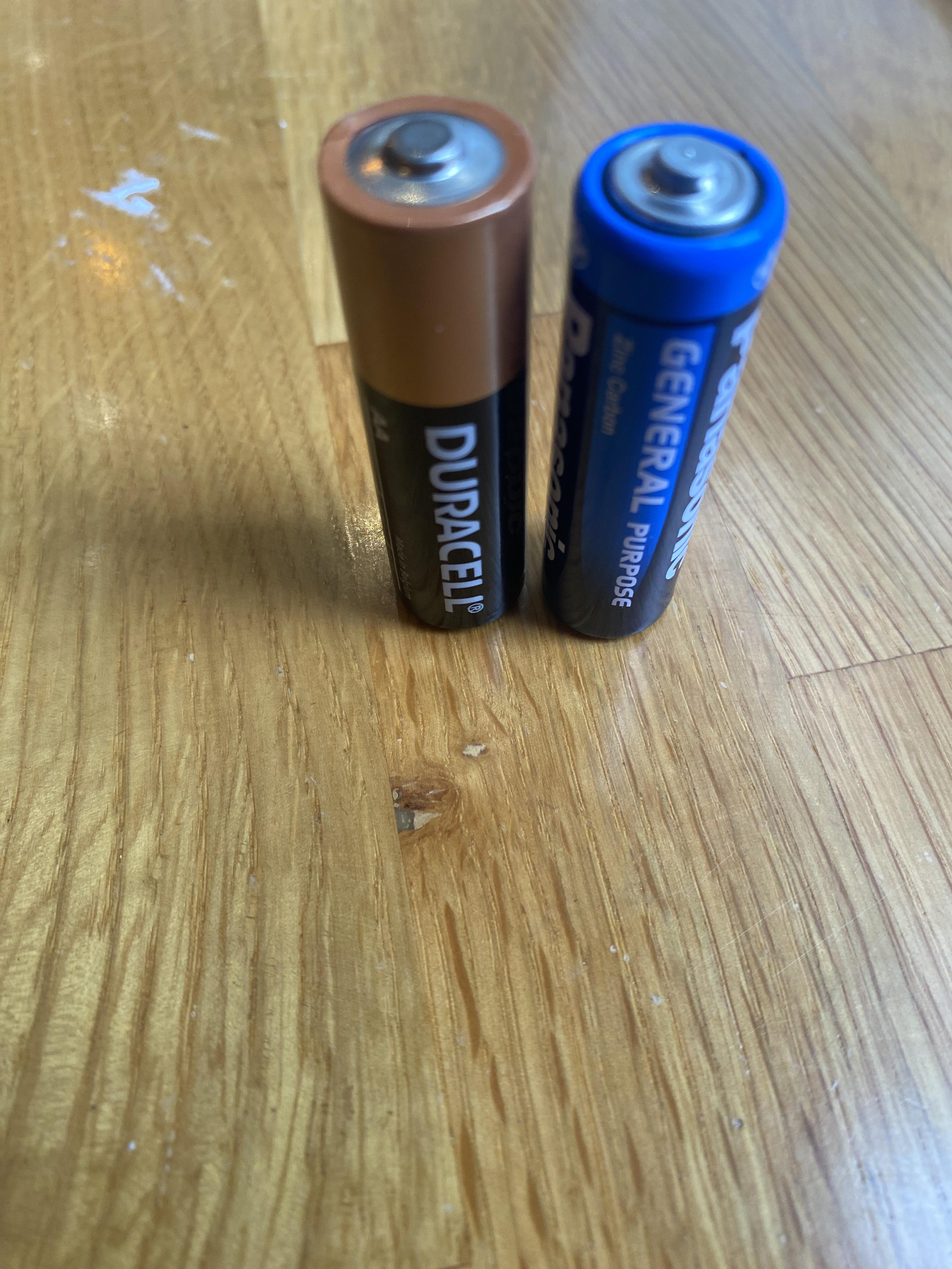AA: (540, 120, 790, 640), (315, 93, 537, 631)
